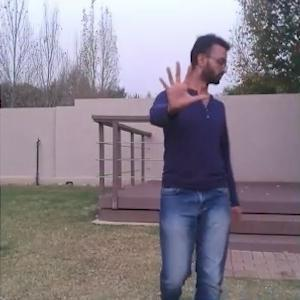follow_hand: (155, 55, 212, 115)
